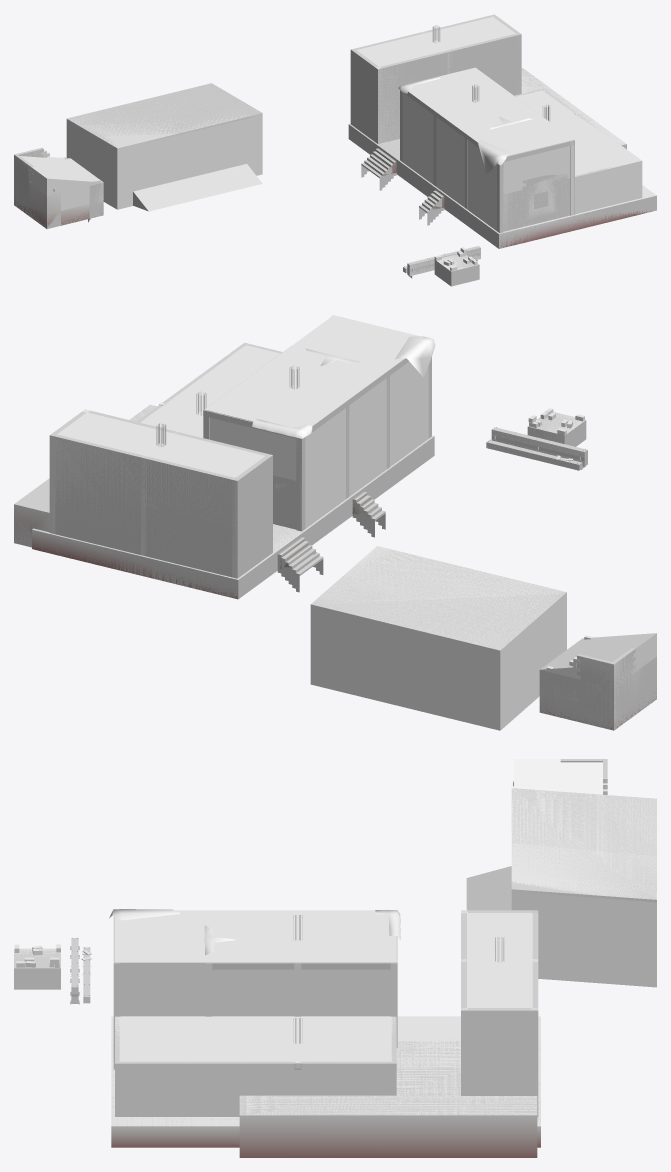
File: ut_smallshed.dae
3 views of the same model, one above another, from view 1: azimuth 30°, elevation 25°; view 2: azimuth 150°, elevation 25°; view 3: azimuth 270°, elevation 25° (orthographic). The views are drawn at different scales.
Visible parts, largest first — view 1: ind_bld_a10, Colmesh-1, ind_bld_a800; view 2: ind_bld_a10, Colmesh-1, ind_bld_a800; view 3: ind_bld_a10, ind_bld_a800, Colmesh-1.
Boxes of the visible parts, <box> form: ind_bld_a10: <box>14,17,642,230</box>; Colmesh-1: <box>14,14,656,286</box>; ind_bld_a800: <box>14,16,656,278</box>; ind_bld_a10: <box>49,315,656,730</box>; Colmesh-1: <box>14,315,656,730</box>; ind_bld_a800: <box>14,336,656,729</box>; ind_bld_a10: <box>115,759,656,1116</box>; ind_bld_a800: <box>14,778,656,1157</box>; Colmesh-1: <box>14,759,656,1126</box>.
Bounding box in the file's own units: 34 × 27.4 × 8.54.
